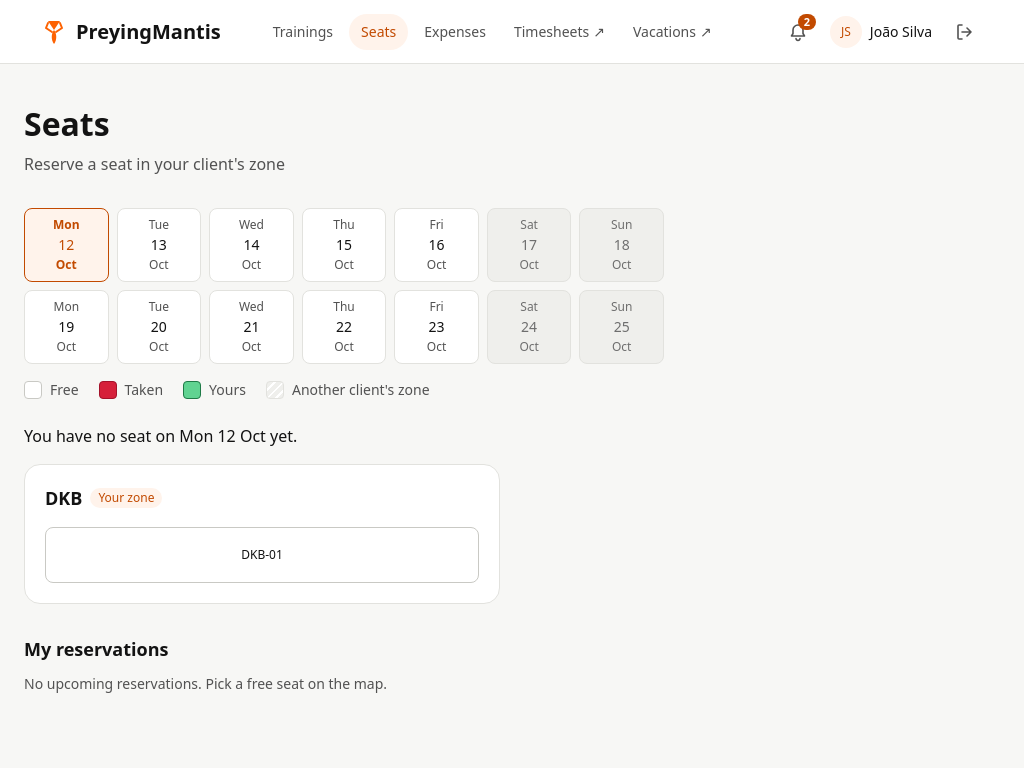
Test case: reserve a seat › says "Sorry, this seat was just taken" on a 409 and refreshes the map
Click the button with aria-label "DKB-01, free" at {"x": 262, "y": 555}, box [45, 527, 479, 583]
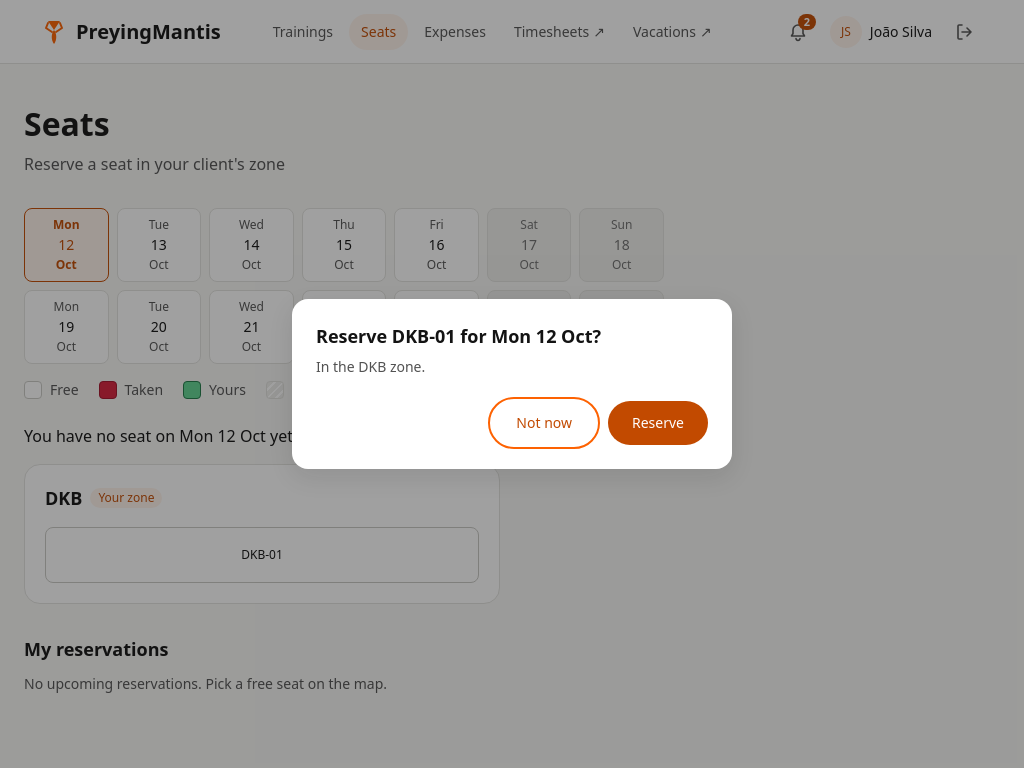
Click the button "Reserve" at {"x": 658, "y": 423}, box [608, 401, 708, 445]
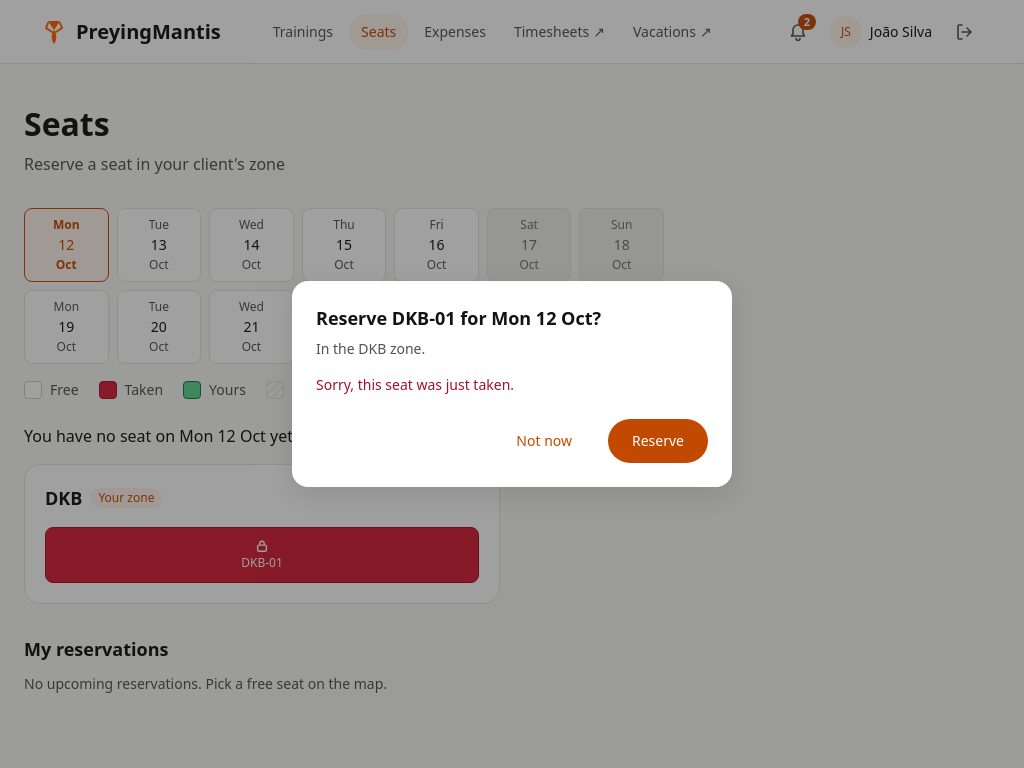
Now the message reads "Sorry, this seat was just taken.", box [316, 375, 514, 394]
Now the button with aria-label "DKB-01, taken by Marta Lopes" is shown, box [45, 527, 479, 583]
